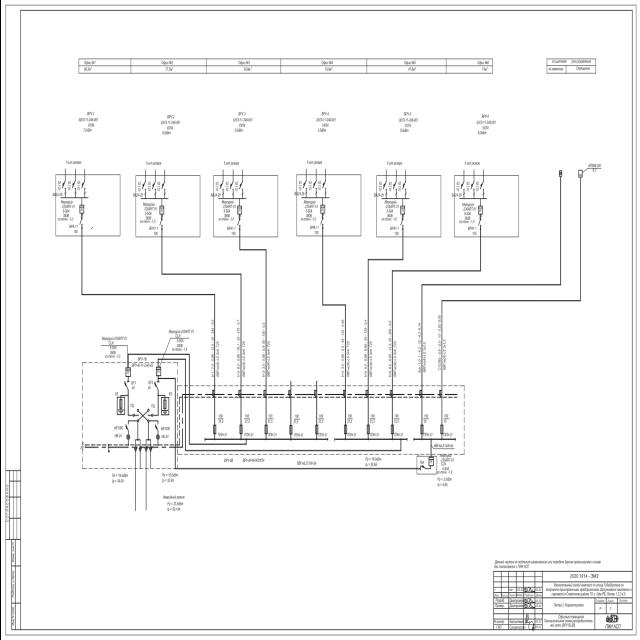-: (100, 334, 126, 360), (167, 327, 193, 352), (130, 363, 152, 368), (160, 426, 170, 432), (112, 426, 122, 432), (113, 433, 121, 439), (160, 434, 168, 439), (128, 402, 134, 408), (150, 403, 154, 409), (130, 385, 134, 390), (146, 386, 150, 390)
HL: (155, 434, 159, 440), (125, 434, 129, 440)
QF: (122, 380, 128, 390), (123, 422, 129, 432), (153, 422, 159, 432), (153, 380, 159, 390)
WH: (124, 367, 130, 377), (154, 366, 160, 376)
switch: (132, 408, 140, 422), (144, 408, 152, 422)
